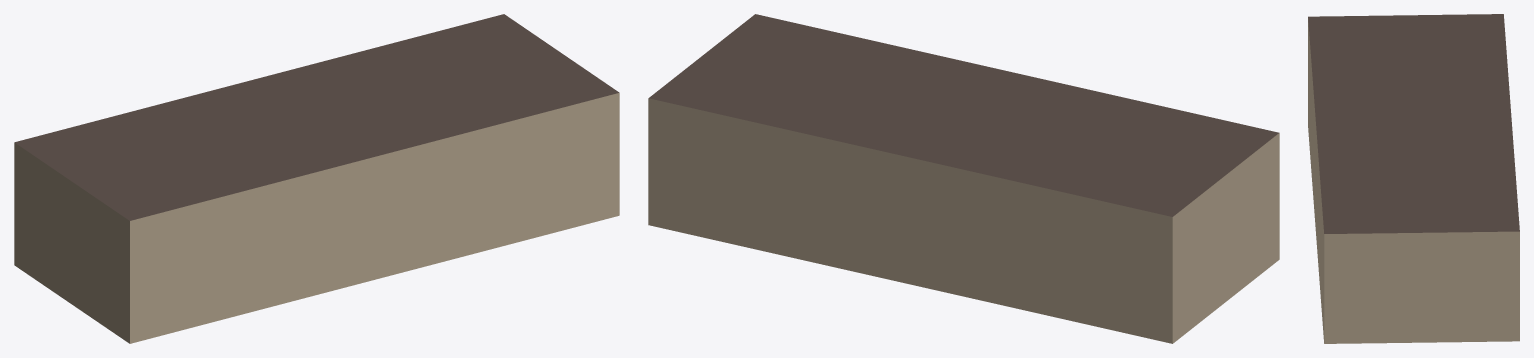
The picture shows the model from 3 angles, left to right: view 1: azimuth 30°, elevation 25°; view 2: azimuth 150°, elevation 25°; view 3: azimuth 270°, elevation 25°; orthographic projection. The views are drawn at different scales.
Parts seen in each view (by area): view 1: HP-w494389731; view 2: HP-w494389731; view 3: HP-w494389731.
Part boxes in pixels (left/top/right/bottom): HP-w494389731: left=14, top=14, right=619, bottom=343; HP-w494389731: left=648, top=14, right=1279, bottom=343; HP-w494389731: left=1308, top=14, right=1519, bottom=343.
Size of the model in its own units: 38.68 by 9 by 15.73.
